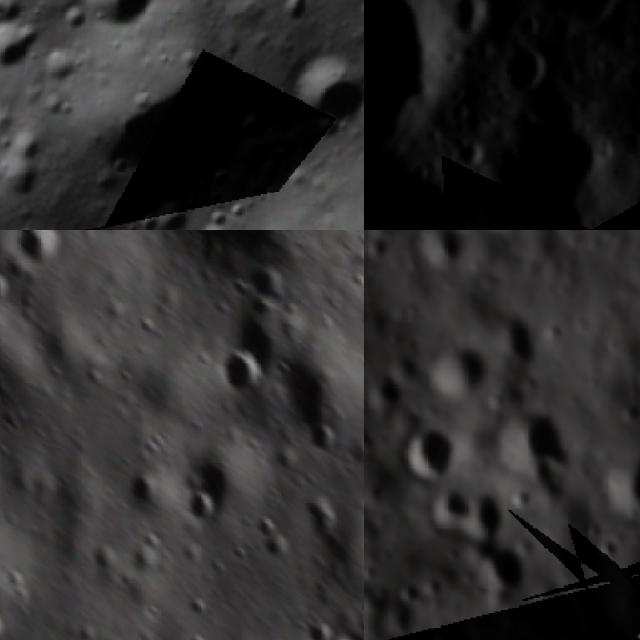crater: (72, 26, 264, 214), (364, 0, 493, 192), (364, 128, 506, 230), (274, 30, 364, 141), (55, 0, 170, 55), (0, 121, 65, 215), (516, 0, 640, 49), (494, 409, 568, 490), (487, 31, 558, 104), (427, 337, 493, 402), (0, 3, 49, 87), (487, 302, 549, 368), (2, 230, 80, 277), (399, 421, 458, 479), (473, 540, 533, 596), (445, 126, 500, 183), (210, 346, 273, 395), (138, 186, 204, 230), (465, 489, 509, 540), (610, 444, 640, 517), (432, 483, 473, 532), (417, 230, 468, 265), (268, 0, 319, 33), (182, 486, 222, 526), (367, 368, 401, 411), (0, 0, 32, 37), (183, 212, 240, 230), (594, 534, 626, 562), (397, 576, 422, 603), (422, 571, 446, 598), (623, 572, 640, 599)
